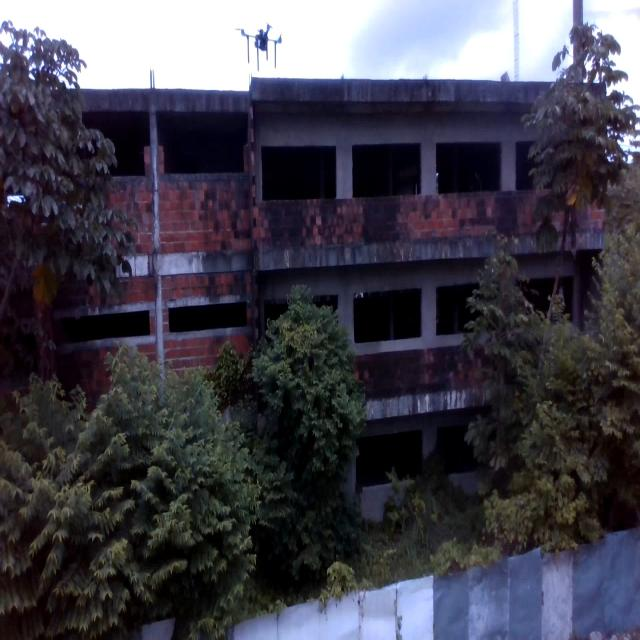-uav-: (226, 11, 292, 78)
